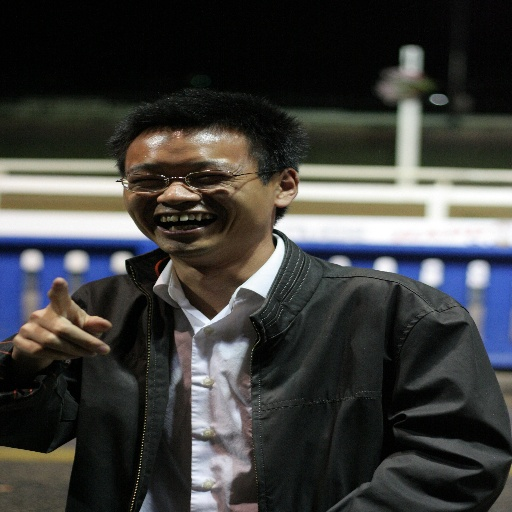hand: (6, 291, 117, 376)
